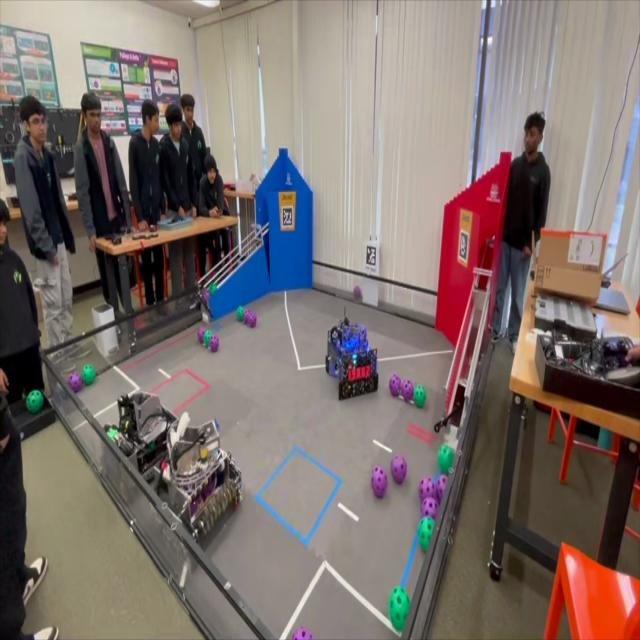artifact_green: (389, 586, 410, 631), (418, 517, 434, 551), (438, 444, 454, 474), (26, 390, 43, 414), (413, 384, 427, 408), (82, 364, 96, 386), (203, 330, 213, 348), (197, 327, 206, 344), (107, 427, 117, 440), (236, 306, 244, 322), (209, 283, 217, 295), (149, 440, 156, 451), (22, 392, 26, 399)
artifact_purple: (371, 466, 387, 498), (391, 455, 407, 483), (421, 497, 439, 520), (419, 478, 435, 503), (68, 371, 83, 393), (436, 474, 447, 503), (401, 380, 414, 401), (389, 375, 401, 397), (292, 627, 313, 639), (201, 290, 210, 312), (249, 311, 258, 328), (210, 335, 219, 352), (201, 290, 211, 305), (359, 326, 367, 343), (353, 286, 362, 301), (243, 309, 251, 325), (198, 327, 205, 343), (253, 312, 257, 327)
